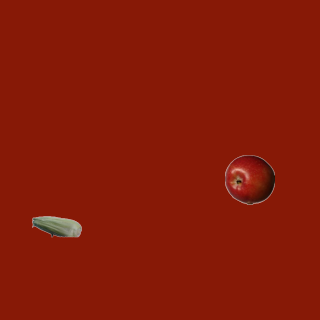Apple Braeburn: (224, 154, 274, 204)
Corn Husk: (31, 201, 81, 251)
